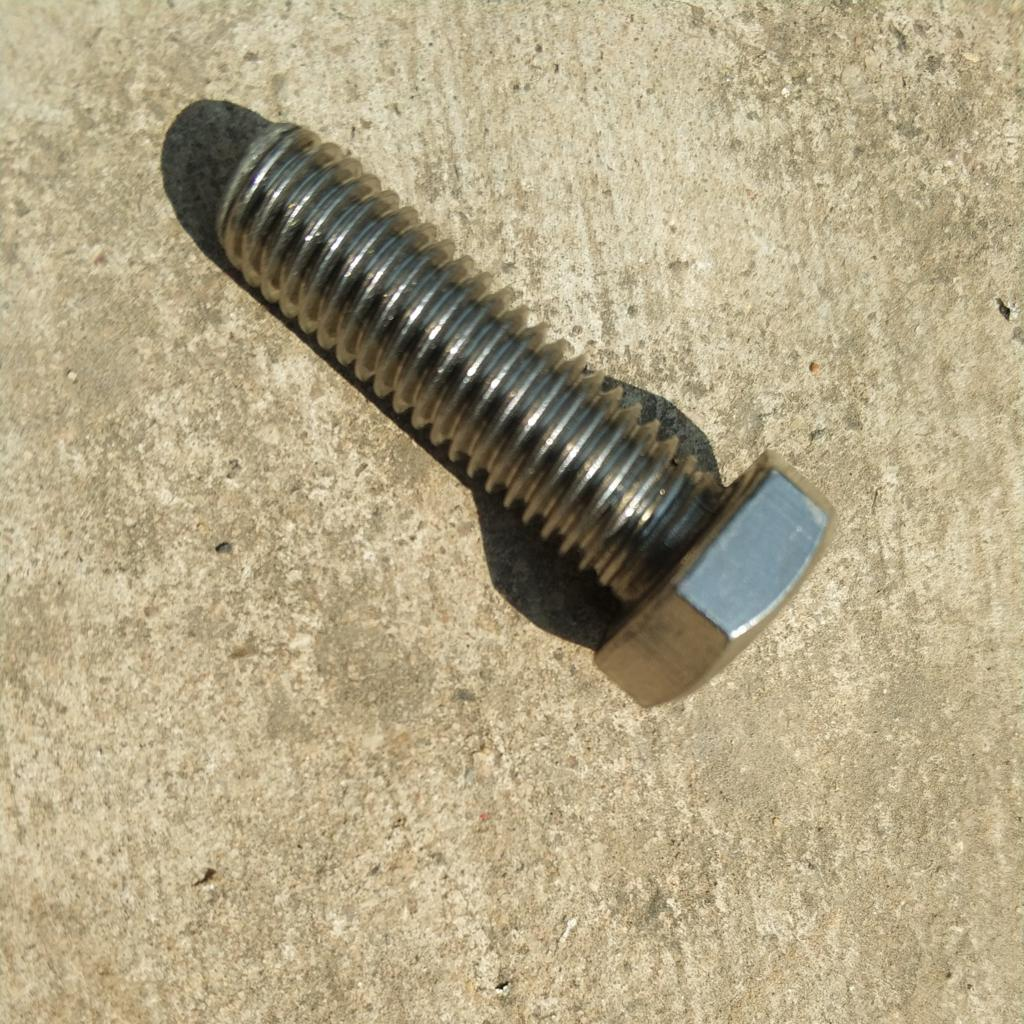screwtype2silver: (201, 116, 838, 733)
